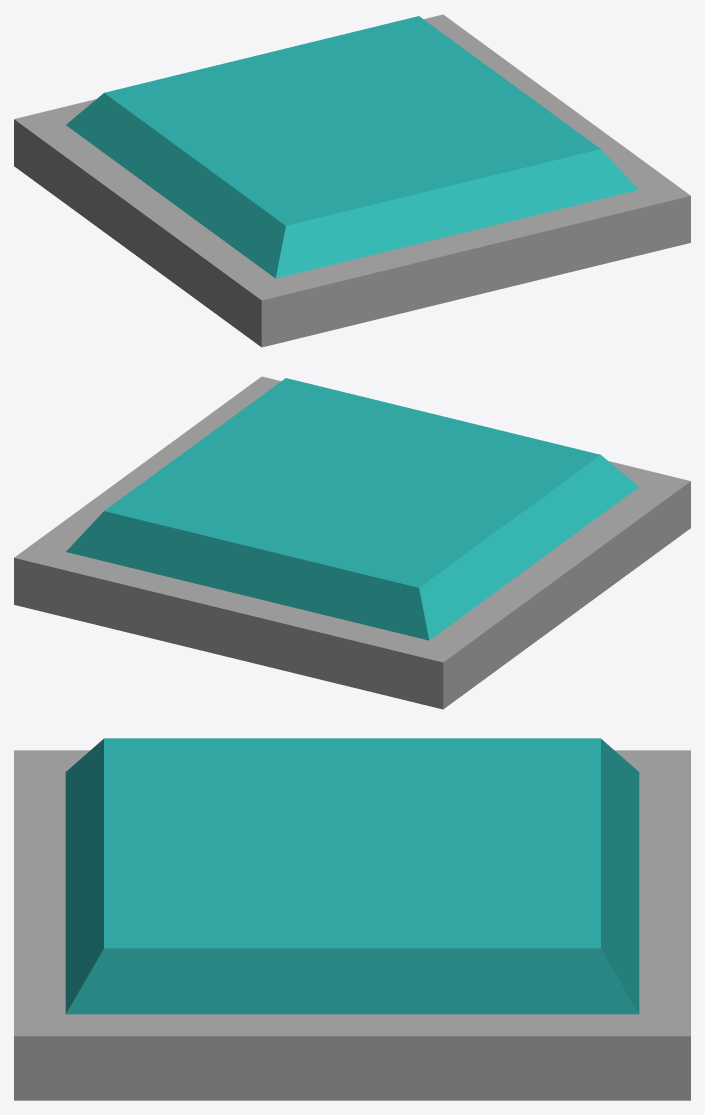
Rendered from Button_Ready.fbx.
3 views of the same model, one above another, from view 1: azimuth 30°, elevation 25°; view 2: azimuth 150°, elevation 25°; view 3: azimuth 270°, elevation 25° (orthographic). The views are drawn at different scales.
Visible parts, largest first — view 1: button; view 2: button; view 3: button.
Boxes of the visible parts, box(x1,y1,x2,y2) form: button: box(14, 14, 690, 347); button: box(14, 376, 690, 709); button: box(14, 738, 690, 1100).
Size of the model in its own units: 1.7 by 0.3158 by 1.7.
